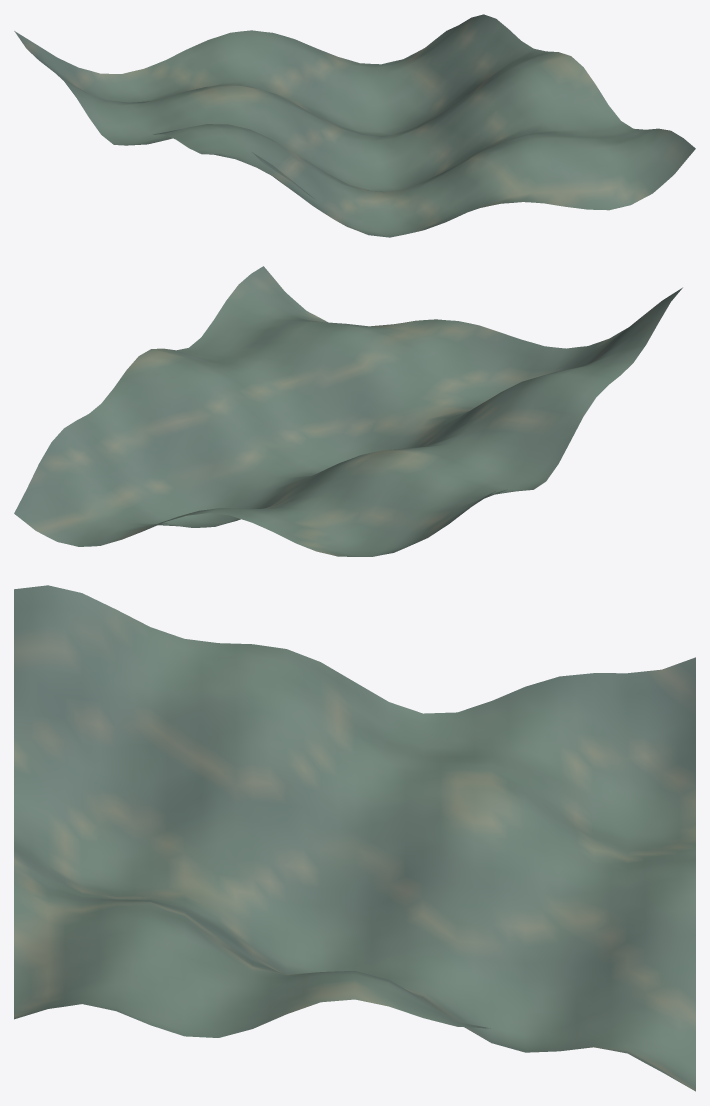
Rendered from ridge_2_-7.glb.
The picture shows the model from 3 angles, top to bottom: view 1: azimuth 30°, elevation 25°; view 2: azimuth 150°, elevation 25°; view 3: azimuth 270°, elevation 25°; orthographic projection. The views are drawn at different scales.
Bounding box in the file's own units: 220 × 88.29 × 220.
